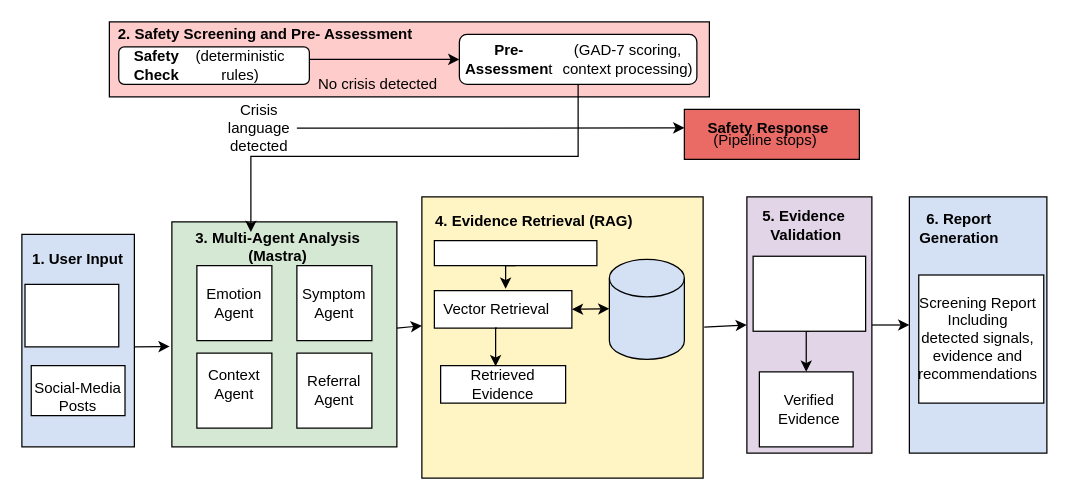
Some shapes in this 1069 by 500 pixel diagram are drawn without their labels. Each missing label, with the centre of its shape:
"Agent Outputs/ Claims" belongs at (x=515, y=252).
"Clinical Knowledge Base" belongs at (x=646, y=308).
"Self-assessment + GAD-7" belongs at (x=71, y=315).
"Validate Generated Claims" belongs at (x=809, y=293).
